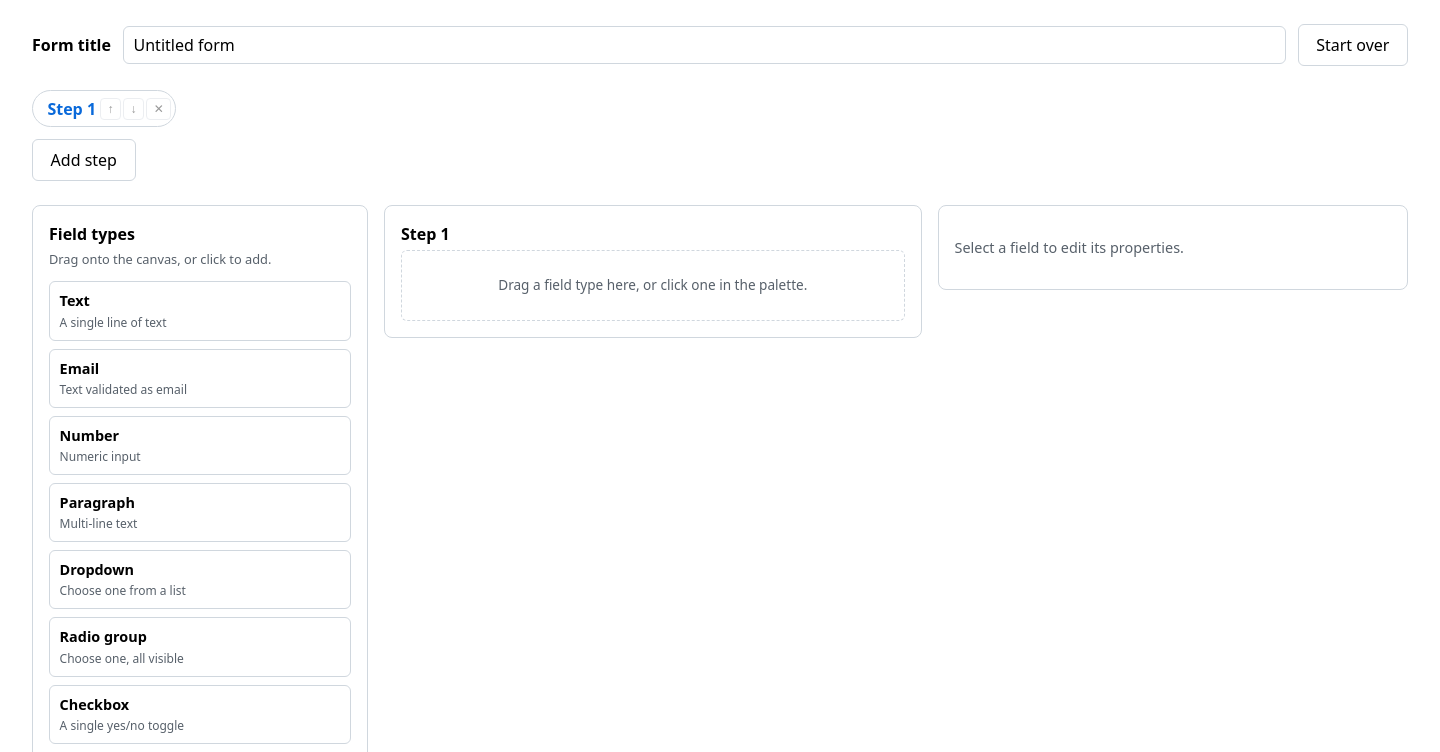
it: BuilderPage › the schema JSON view reflects the form title
Replace the text in the field labelled "Form title" with "Volunteer Sign-up" at (704, 45), box [123, 26, 1286, 64]
(page scrolled)
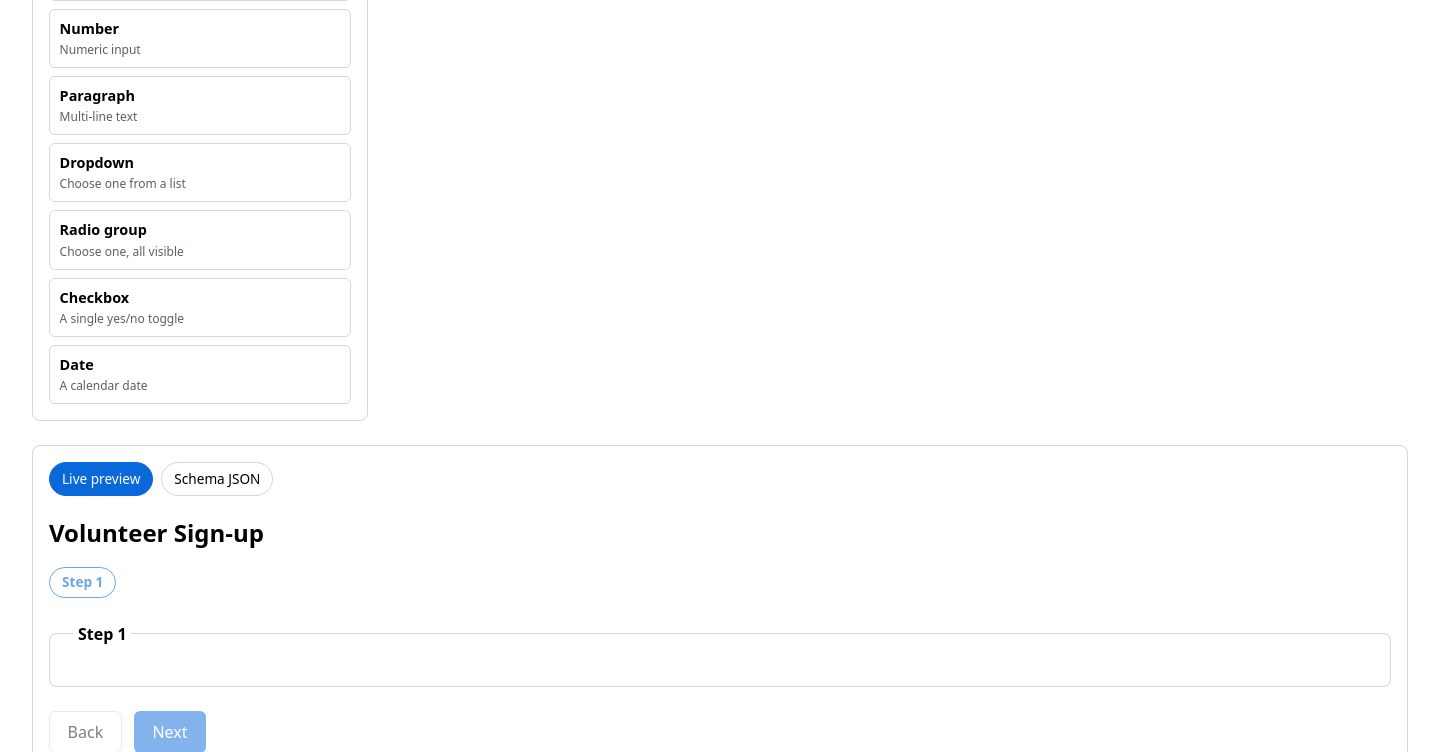
Click the button "Schema JSON" at (217, 479), box [161, 462, 273, 496]
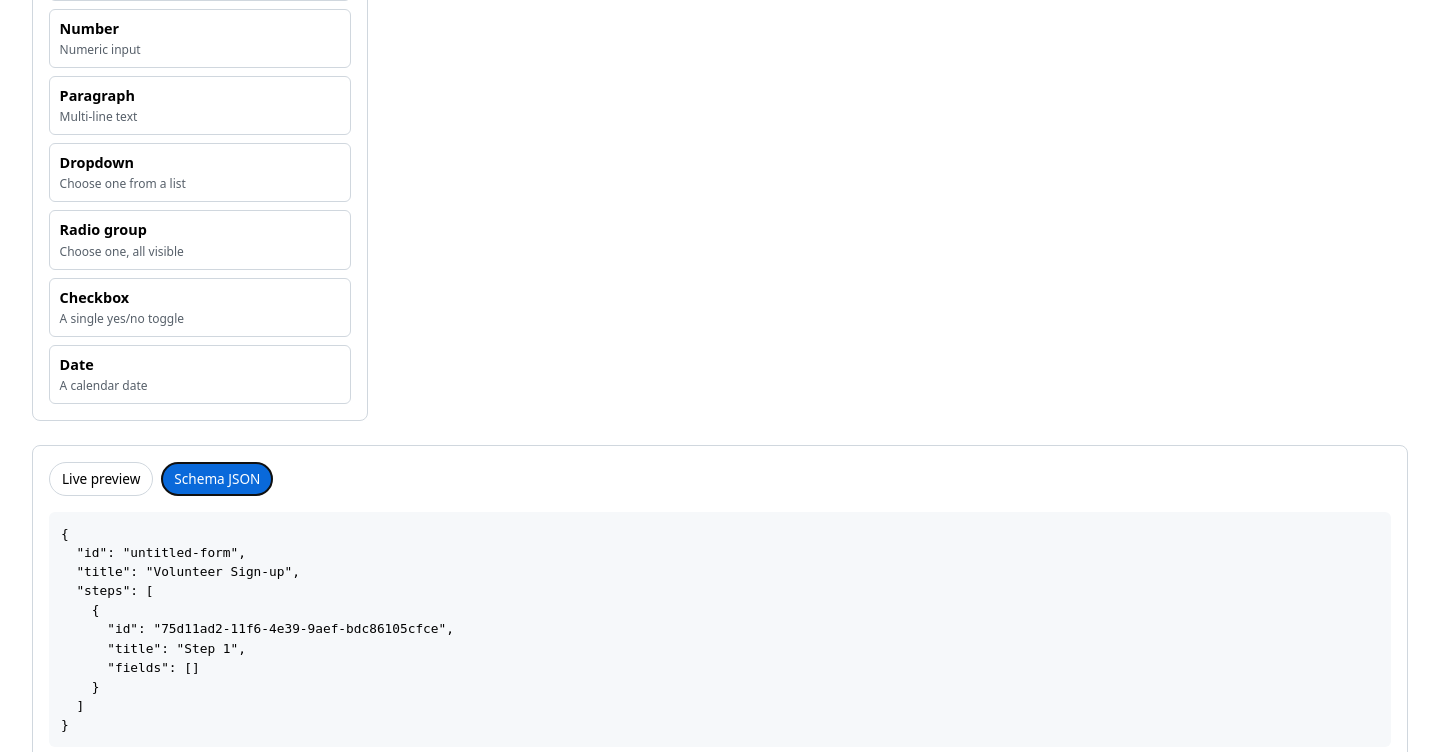
Check: the text named "Form schema JSON" shows "Volunteer Sign-up", box [61, 526, 454, 732]
